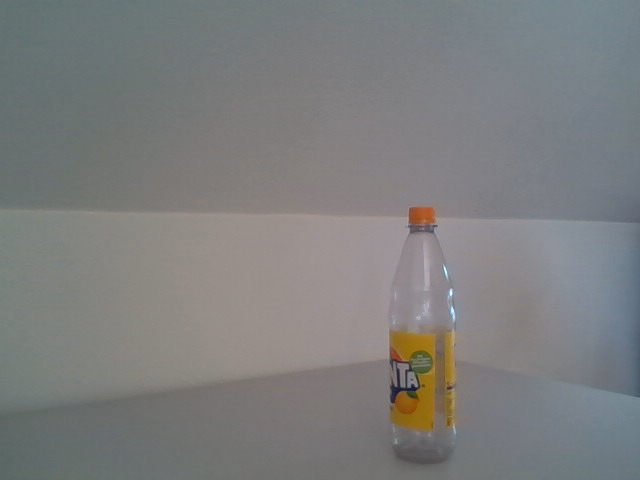bottle: (387, 207, 459, 465)
